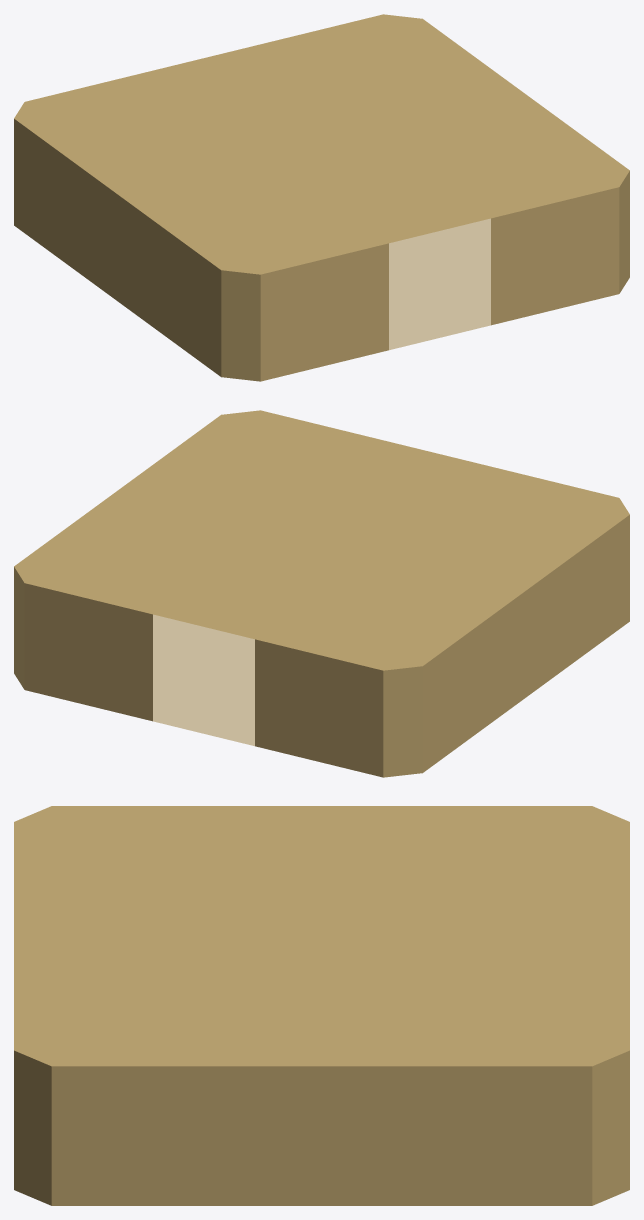
Rendered from Room001.fbx.
3 renders of one model, top to bottom at view 1: azimuth 30°, elevation 25°; view 2: azimuth 150°, elevation 25°; view 3: azimuth 270°, elevation 25°, orthographic. The views are drawn at different scales.
Parts seen in each view (by area): view 1: Cube; view 2: Cube; view 3: Cube.
Boxes of the visible parts, x1=… form: Cube: x1=14, y1=14, x2=629, y2=381; Cube: x1=14, y1=410, x2=629, y2=777; Cube: x1=14, y1=806, x2=629, y2=1205.
Size of the model in its own units: 1600 by 400 by 1600.
